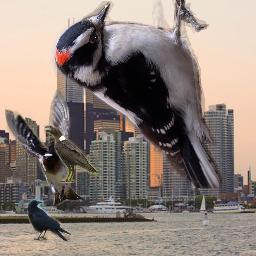Crow: (44, 125, 98, 183), (27, 198, 71, 243)
Swallow: (5, 89, 84, 205)
Woodpecker: (51, 0, 223, 188)
